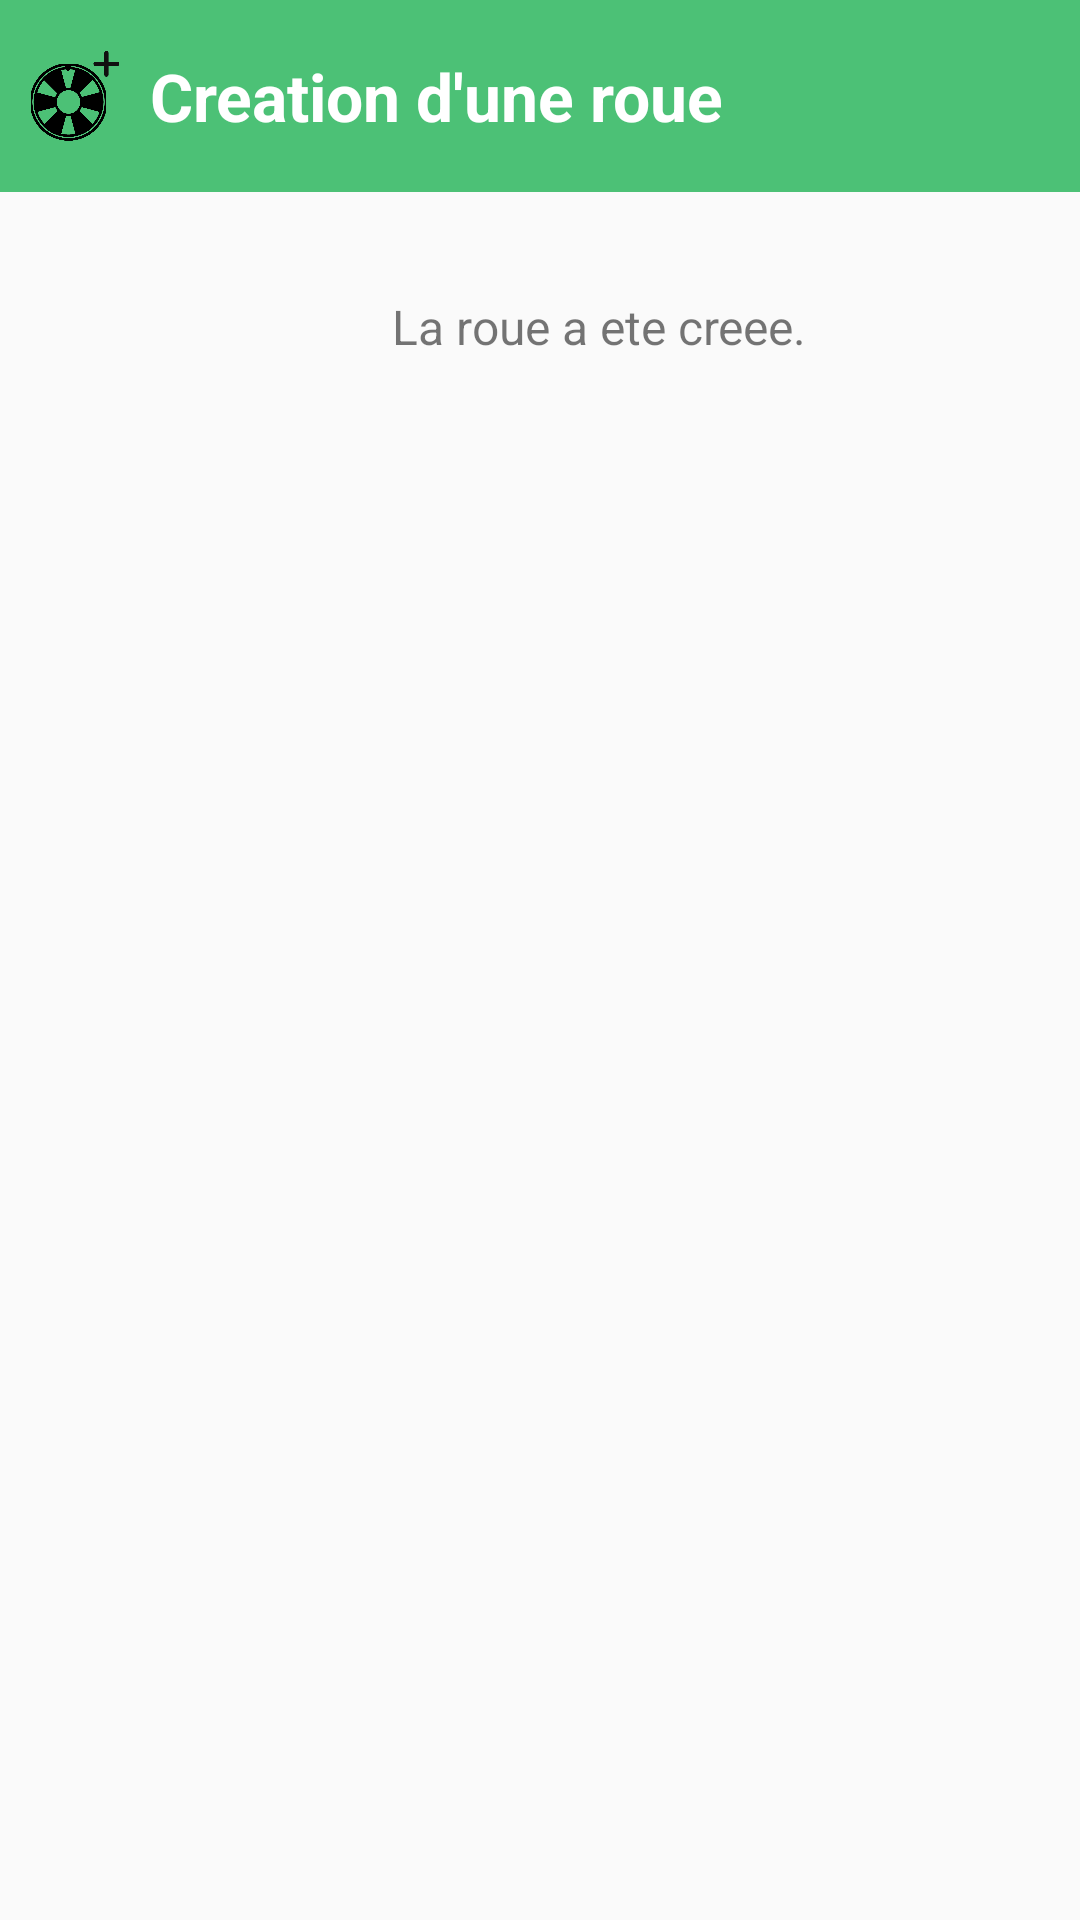

Locate icon controls on the screen. Image size 1080 × 1920, boxes as [x1, y1, x2, y2].
add wheel: [31, 51, 119, 141]
